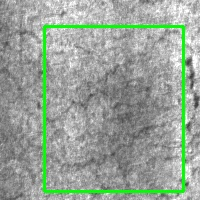crazing: (44, 26, 183, 191)
